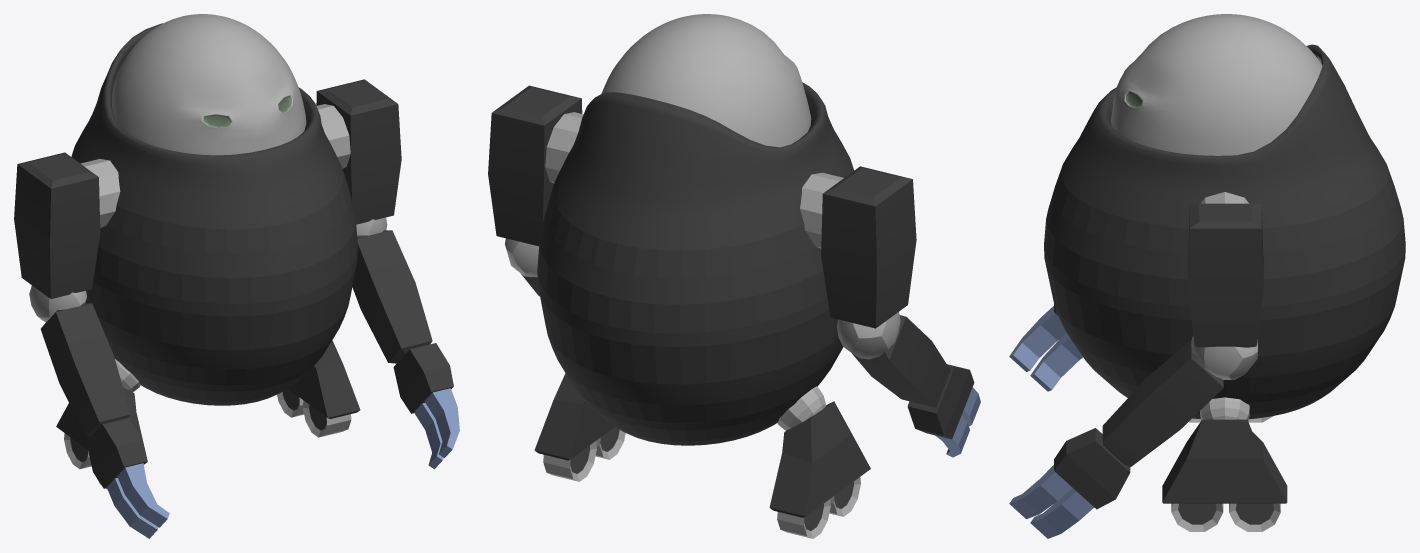
The picture shows the model from 3 angles, left to right: view 1: azimuth 30°, elevation 25°; view 2: azimuth 150°, elevation 25°; view 3: azimuth 270°, elevation 25°; orthographic projection. The views are drawn at different scales.
Parts seen in each view (by area): view 1: Body, arm_2, Arm_1, Feet; view 2: Body, Arm_1, Feet, arm_2; view 3: Body, arm_2, Arm_1, Feet.
Part boxes in pixels (bbox=[...]): Body: bbox=[71, 14, 357, 405]; arm_2: bbox=[40, 230, 459, 538]; Arm_1: bbox=[14, 79, 401, 322]; Feet: bbox=[56, 340, 360, 488]; Body: bbox=[537, 14, 853, 445]; Arm_1: bbox=[488, 85, 916, 359]; Feet: bbox=[534, 373, 870, 538]; arm_2: bbox=[521, 274, 980, 457]; Body: bbox=[1044, 14, 1405, 421]; arm_2: bbox=[1009, 304, 1223, 538]; Arm_1: bbox=[1188, 203, 1263, 379]; Feet: bbox=[1162, 416, 1287, 531].
Size of the model in its own units: 110 by 127 by 102.
